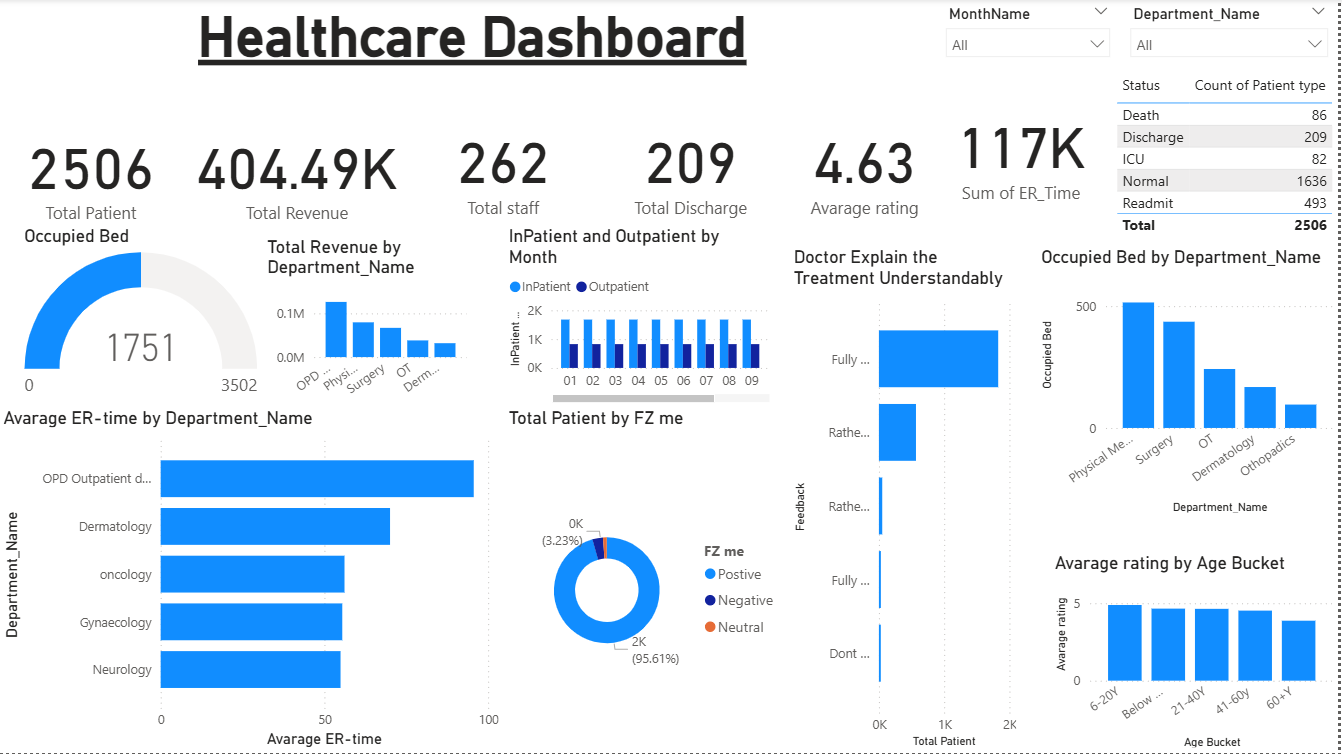

This screenshot's page, from the dashboard's own definition file:
{"tool":"powerbi","page":{"name":"Page 1","canvas":[1280,720],"ordinal":0},"visuals":[{"type":"textbox","box":[9.5,0,885.8,75.8],"z":0},{"type":"card","fields":{"Values":["Detail data dataset.Total Patient"]},"box":[0,104.2,176.8,121.6],"z":1000},{"type":"card","fields":{"Values":["Detail data dataset.Total Revenue"]},"box":[176.8,104.2,217.9,121.6],"z":2000},{"type":"card","fields":{"Values":["Staff_Detail.Total staff"]},"box":[393.9,104.6,176.2,111.7],"z":3000},{"type":"slicer","fields":{"Values":["Department.Department_Name"]},"box":[1072.1,0,208.4,66.3],"z":4000},{"type":"slicer","fields":{"Values":["Calendar_date.MonthName"]},"box":[895.3,0,176.8,66.3],"z":5000},{"type":"gauge","fields":{"Y":["Detail data dataset.Occupied Bed"]},"box":[20.5,216.3,232.1,173.7],"z":6000},{"type":"clusteredColumnChart","fields":{"Y":["Detail data dataset.InPatient","Detail data dataset.Outpatient"],"Category":["Calendar_date.Month"]},"box":[483.2,216.3,259,173.7],"z":7000},{"type":"clusteredColumnChart","fields":{"Y":["Detail data dataset.Avarage rating"],"Category":["Detail data dataset.Age Bucket"]},"box":[1004.2,529,276.3,191.1],"z":8000},{"type":"card","fields":{"Values":["Detail data dataset.Total Discharge"]},"box":[570.1,104.6,181.9,111.7],"z":9000},{"type":"card","fields":{"Values":["Detail data dataset.Avarage rating"]},"box":[742,104.6,170.5,111.7],"z":10000},{"type":"tableEx","fields":{"Values":["Detail data dataset.Status","Detail data dataset.Patient type"]},"box":[1062.6,66.3,217.9,170.5],"z":11000},{"type":"card","fields":{"Values":["Sum(Detail data dataset.ER_Time)"]},"box":[895.3,75.8,162.6,140.5],"z":12000},{"type":"clusteredColumnChart","fields":{"Y":["Detail data dataset.Occupied Bed"],"Category":["Department.Department_Name"]},"box":[991.6,236.8,289,259],"z":13000},{"type":"donutChart","fields":{"Category":["Detail data dataset.FZ me"],"Y":["Detail data dataset.Total Patient"]},"box":[483.2,390,271.6,330],"z":14000},{"type":"clusteredBarChart","title":"Doctor Explain the Treatment Understandably","fields":{"Category":["Detail data dataset.Feedback"],"Y":["Detail data dataset.Total Patient"]},"box":[754.7,236.8,222.6,483.2],"z":15000},{"type":"clusteredColumnChart","fields":{"Y":["Detail data dataset.Total Revenue"],"Category":["Department.Department_Name"]},"box":[252.1,226.3,200.5,163.3],"z":16000},{"type":"clusteredBarChart","fields":{"Category":["Department.Department_Name"],"Y":["Detail data dataset.Avarage ER-time"]},"box":[0,389.6,482.7,329.4],"z":17000}]}

Visuals, with their boxes in screenshot pixels (x1, y1, x2, y2), scaled from the page's 1280x720 canvas onto the 1342x754 screenshot:
textbox: rect(10, 0, 939, 79)
card - Detail data dataset.Total Patient: rect(0, 109, 185, 236)
card - Detail data dataset.Total Revenue: rect(185, 109, 414, 236)
card - Staff_Detail.Total staff: rect(413, 110, 598, 227)
slicer - Department.Department_Name: rect(1124, 0, 1341, 69)
slicer - Calendar_date.MonthName: rect(939, 0, 1124, 69)
gauge - Detail data dataset.Occupied Bed: rect(21, 227, 265, 408)
clusteredColumnChart - Detail data dataset.InPatient x Detail data dataset.Outpatient: rect(507, 227, 778, 408)
clusteredColumnChart - Detail data dataset.Avarage rating x Detail data dataset.Age Bucket: rect(1053, 554, 1341, 753)
card - Detail data dataset.Total Discharge: rect(598, 110, 788, 227)
card - Detail data dataset.Avarage rating: rect(778, 110, 957, 227)
tableEx - Detail data dataset.Status x Detail data dataset.Patient type: rect(1114, 69, 1341, 248)
card - Sum(Detail data dataset.ER_Time): rect(939, 79, 1109, 227)
clusteredColumnChart - Detail data dataset.Occupied Bed x Department.Department_Name: rect(1040, 248, 1341, 519)
donutChart - Detail data dataset.FZ me x Detail data dataset.Total Patient: rect(507, 408, 791, 753)
"Doctor Explain the Treatment Understandably" clusteredBarChart: rect(791, 248, 1025, 753)
clusteredColumnChart - Detail data dataset.Total Revenue x Department.Department_Name: rect(264, 237, 475, 408)
clusteredBarChart - Department.Department_Name x Detail data dataset.Avarage ER-time: rect(0, 408, 506, 753)
